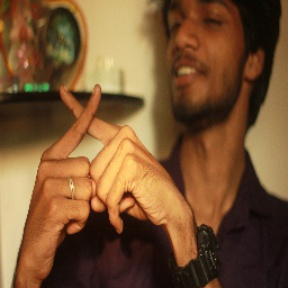X: (31, 74, 152, 181)
